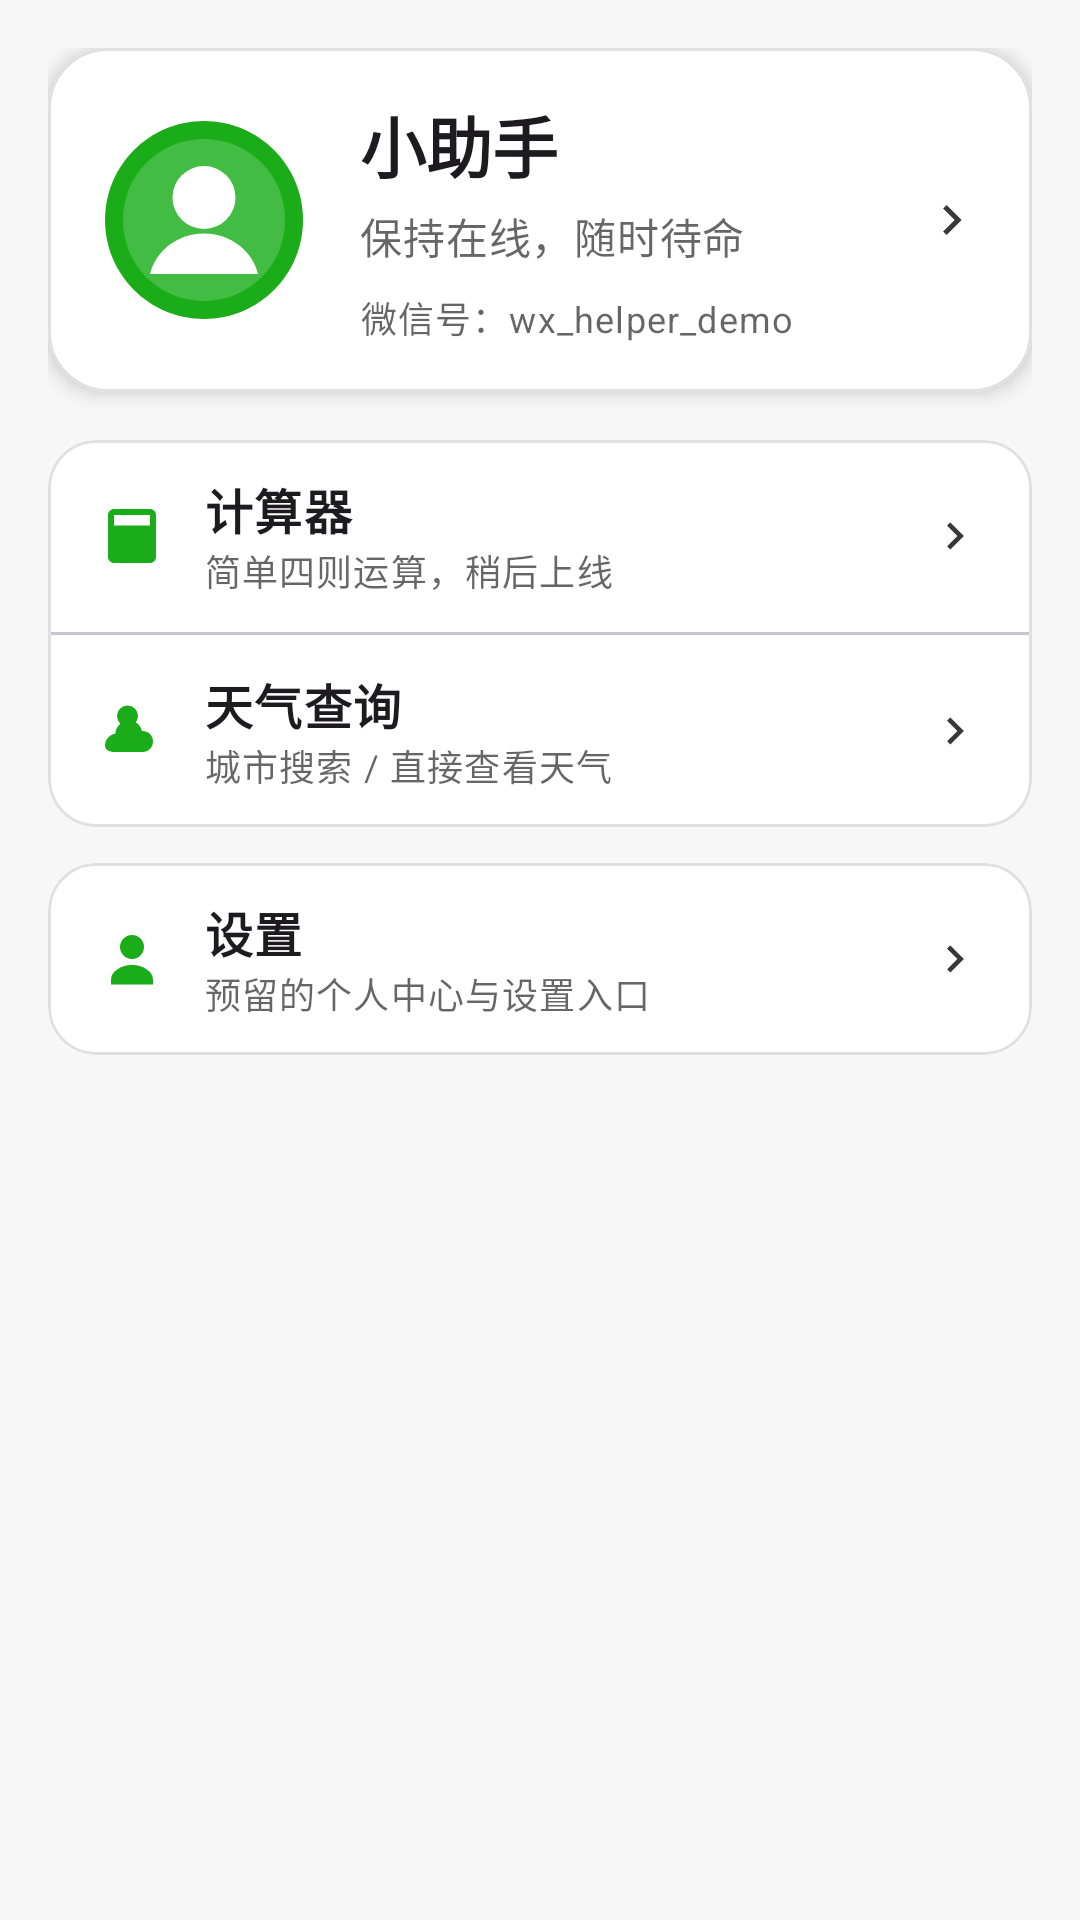

Named icons in this screenshot (1080w x 1920h) and their centers, (x,y):
arrow right: (955,536), (955,731), (955,959)
calculator: (132,536)
